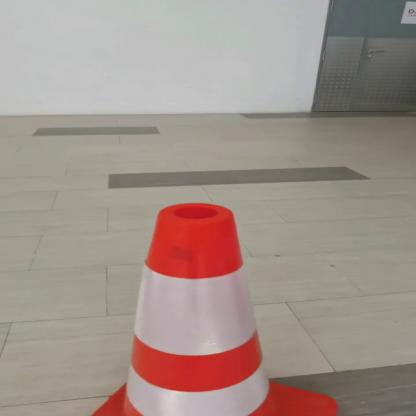cone: (82, 194, 352, 416)
